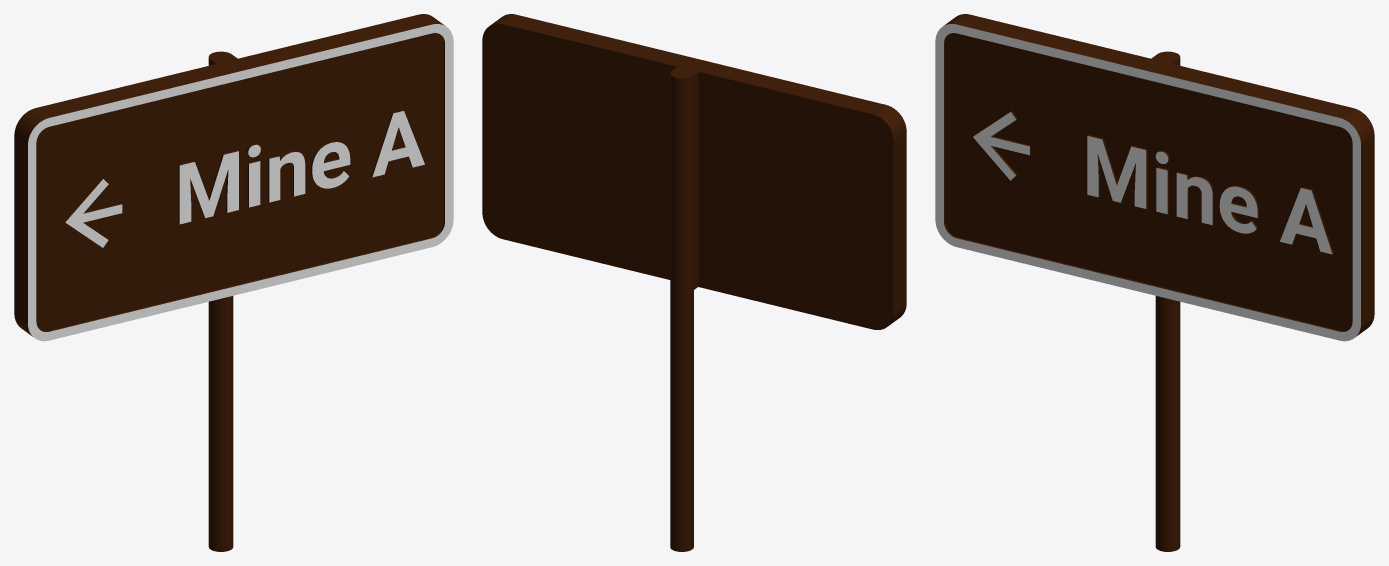
Rendered from sign_A.fbx.
The picture shows the model from 3 angles, left to right: view 1: azimuth 30°, elevation 25°; view 2: azimuth 150°, elevation 25°; view 3: azimuth 330°, elevation 25°; orthographic projection. The views are drawn at different scales.
Parts seen in each view (by area): view 1: Part 1; view 2: Part 1; view 3: Part 1.
Boxes of the visible parts, x1,y1,x2,y2 form: Part 1: (14,14,453,551); Part 1: (482,14,906,551); Part 1: (935,14,1374,551).
Bounding box in the file's own units: 400 × 440 × 41.99.
